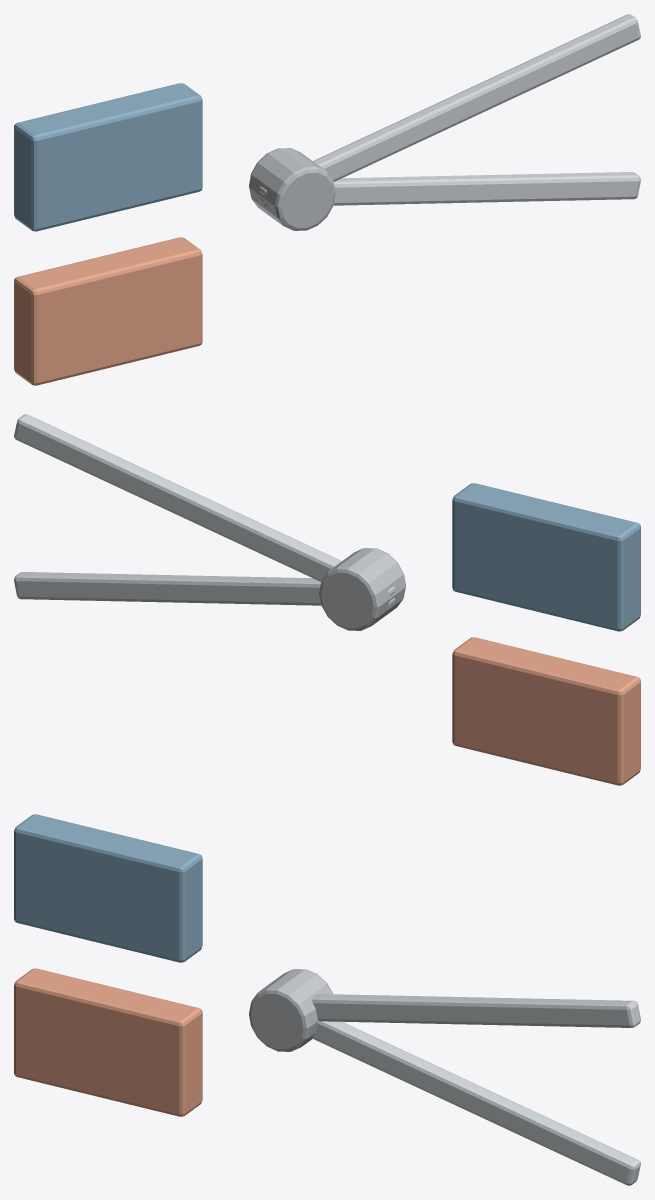
The model's file is scissors.glb.
3 views of the same model, one above another, from view 1: azimuth 30°, elevation 25°; view 2: azimuth 150°, elevation 25°; view 3: azimuth 330°, elevation 25° (orthographic).
Visible parts, largest first — view 1: scissors_握柄-1, scissors_握柄1, scissors_刀刃1, scissors_刀刃-1, scissors_铰轴; view 2: scissors_握柄-1, scissors_握柄1, scissors_刀刃1, scissors_刀刃-1, scissors_铰轴; view 3: scissors_握柄1, scissors_握柄-1, scissors_刀刃-1, scissors_刀刃1, scissors_铰轴.
Part boxes in pixels (box(x1,y1,x2,y2)): scissors_握柄-1: box(14, 237, 202, 385); scissors_握柄1: box(14, 83, 202, 231); scissors_刀刃1: box(259, 14, 640, 195); scissors_刀刃-1: box(259, 172, 640, 206); scissors_铰轴: box(249, 148, 335, 230); scissors_握柄-1: box(452, 637, 640, 785); scissors_握柄1: box(452, 483, 640, 631); scissors_刀刃1: box(14, 414, 395, 595); scissors_刀刃-1: box(14, 572, 395, 606); scissors_铰轴: box(319, 548, 405, 630); scissors_握柄1: box(14, 814, 202, 962); scissors_握柄-1: box(14, 968, 202, 1116); scissors_刀刃-1: box(312, 1021, 640, 1185); scissors_刀刃1: box(312, 994, 640, 1027); scissors_铰轴: box(249, 969, 332, 1051).
Size of the model in its own units: 0.468 by 0.182 by 0.04.
